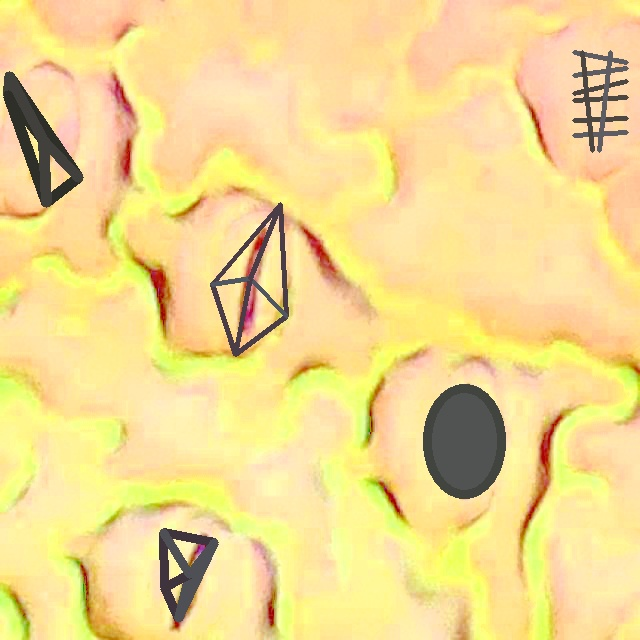close: (3, 72, 83, 207), (572, 51, 628, 151)
open: (211, 202, 288, 355), (423, 384, 505, 498), (160, 528, 218, 621)
